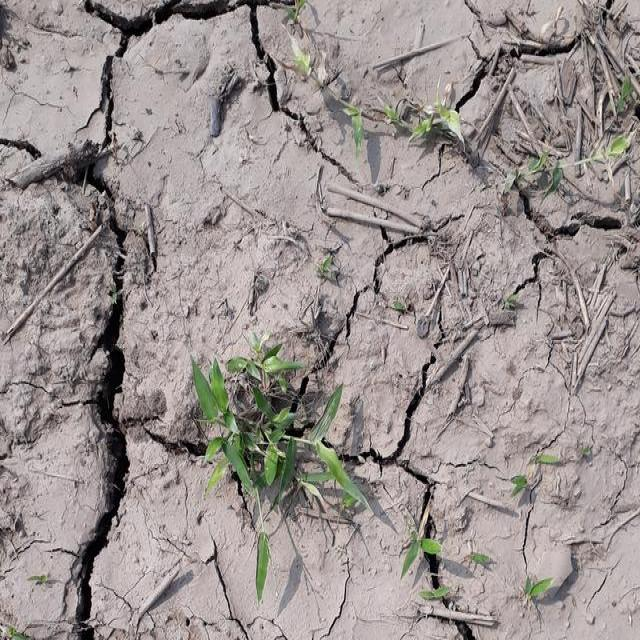weed: (173, 325, 363, 520)
